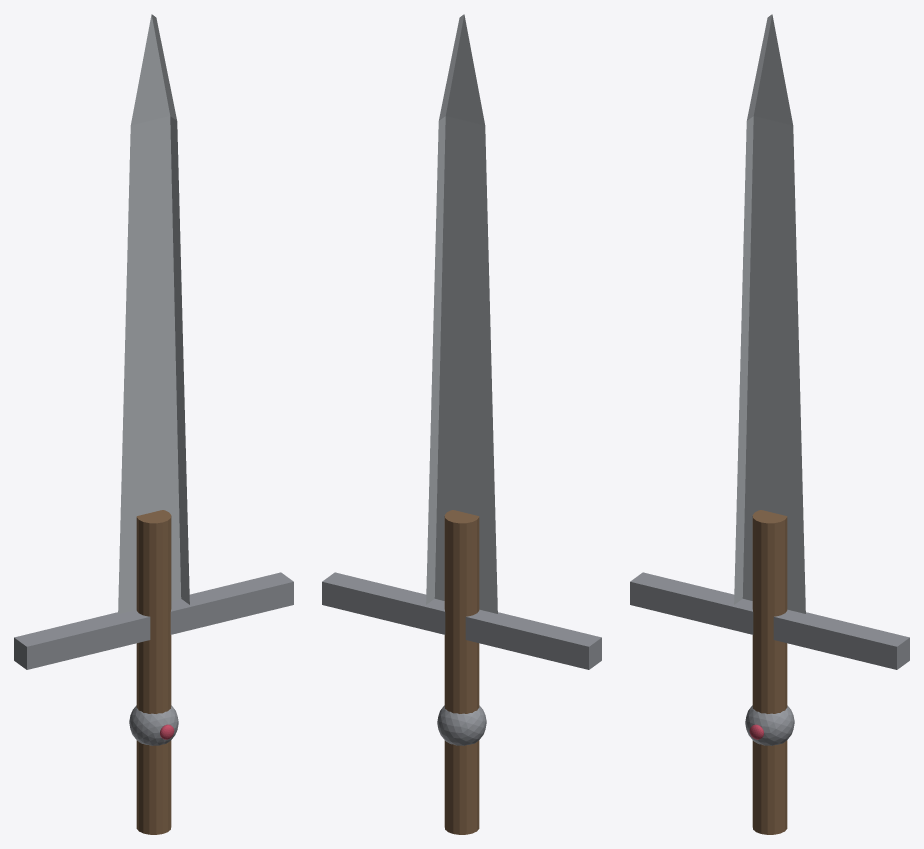
File: greatsword_with_ruby_gemstone.glb
3 views of the same model, side by side, from view 1: azimuth 30°, elevation 25°; view 2: azimuth 150°, elevation 25°; view 3: azimuth 330°, elevation 25° (orthographic).
Visible parts, largest first — view 1: sword_0_0, sword_0_2, sword_0_1, sword_0_3; view 2: sword_0_0, sword_0_2, sword_0_1, sword_0_3; view 3: sword_0_0, sword_0_2, sword_0_1, sword_0_3.
Part boxes in pixels (left/top/right/bottom): sword_0_0: left=118, top=14, right=189, bottom=613; sword_0_2: left=136, top=510, right=171, bottom=834; sword_0_1: left=14, top=572, right=293, bottom=669; sword_0_3: left=129, top=705, right=178, bottom=745; sword_0_0: left=426, top=14, right=497, bottom=613; sword_0_2: left=444, top=510, right=479, bottom=834; sword_0_1: left=322, top=572, right=601, bottom=669; sword_0_3: left=437, top=705, right=486, bottom=745; sword_0_0: left=734, top=14, right=805, bottom=613; sword_0_2: left=752, top=510, right=787, bottom=834; sword_0_1: left=630, top=572, right=909, bottom=669; sword_0_3: left=745, top=705, right=794, bottom=745.
Bounding box in the file's own units: 2.65 × 7.69 × 0.4787.
